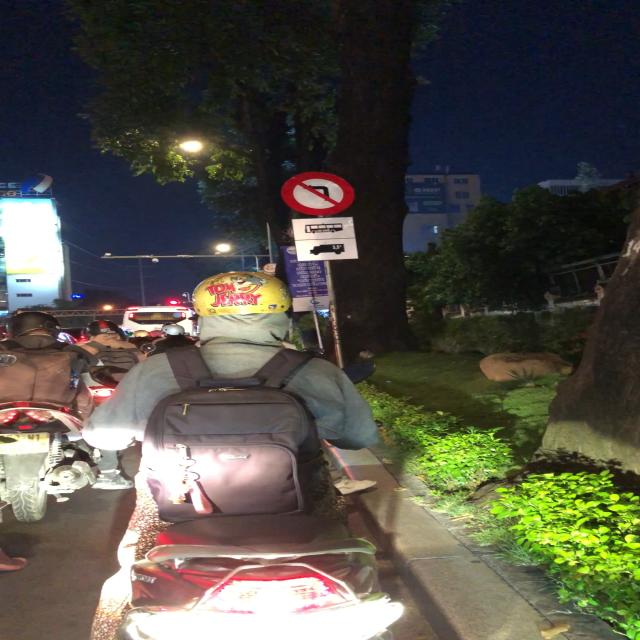Bien bao cam re trai: (278, 171, 356, 217)
